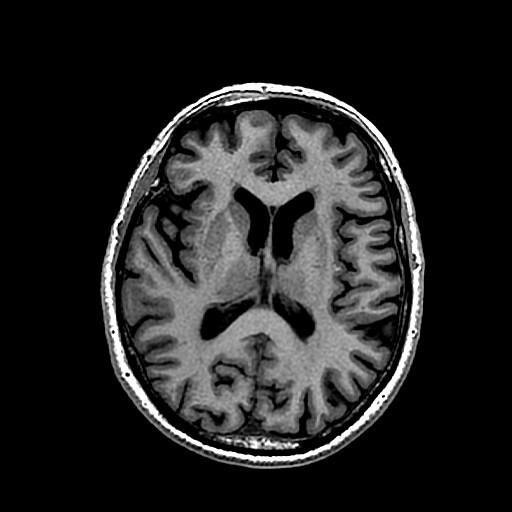Normal_Brain: (3, 1, 512, 512)
